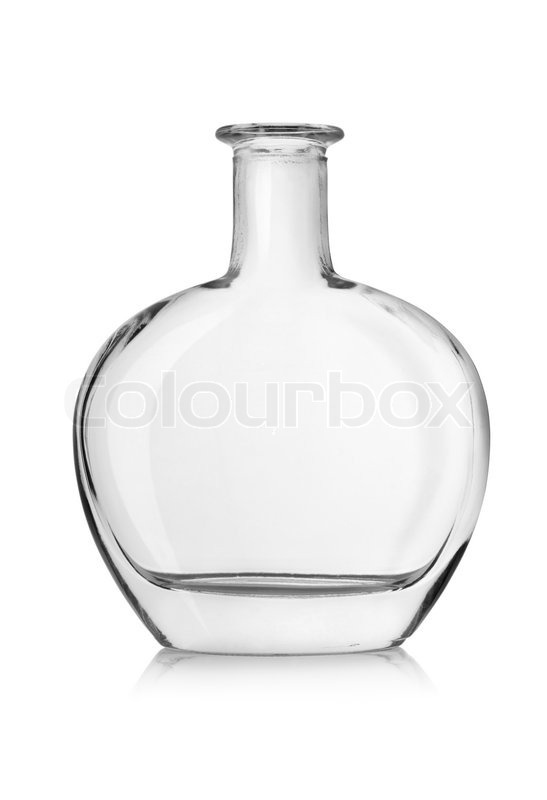emptybottle: (73, 121, 488, 654)
